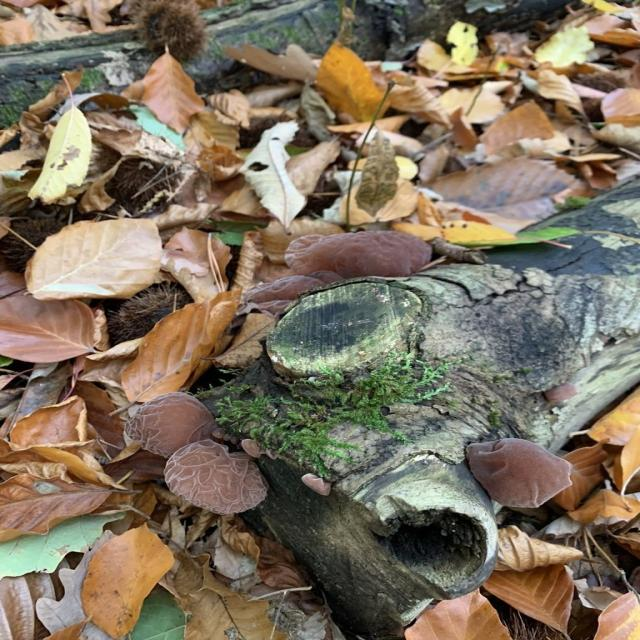Fase Muda: (462, 437, 584, 514), (284, 227, 443, 284), (160, 443, 275, 516), (125, 386, 227, 457), (231, 267, 368, 316), (546, 379, 581, 416), (238, 437, 276, 467), (300, 468, 335, 497)
